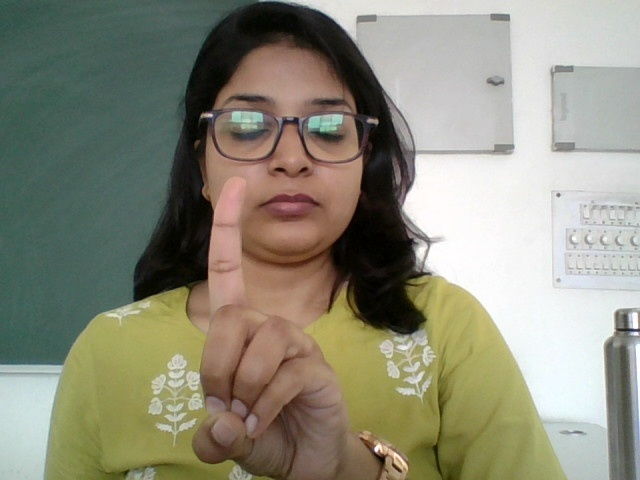D: (148, 178, 373, 478)
